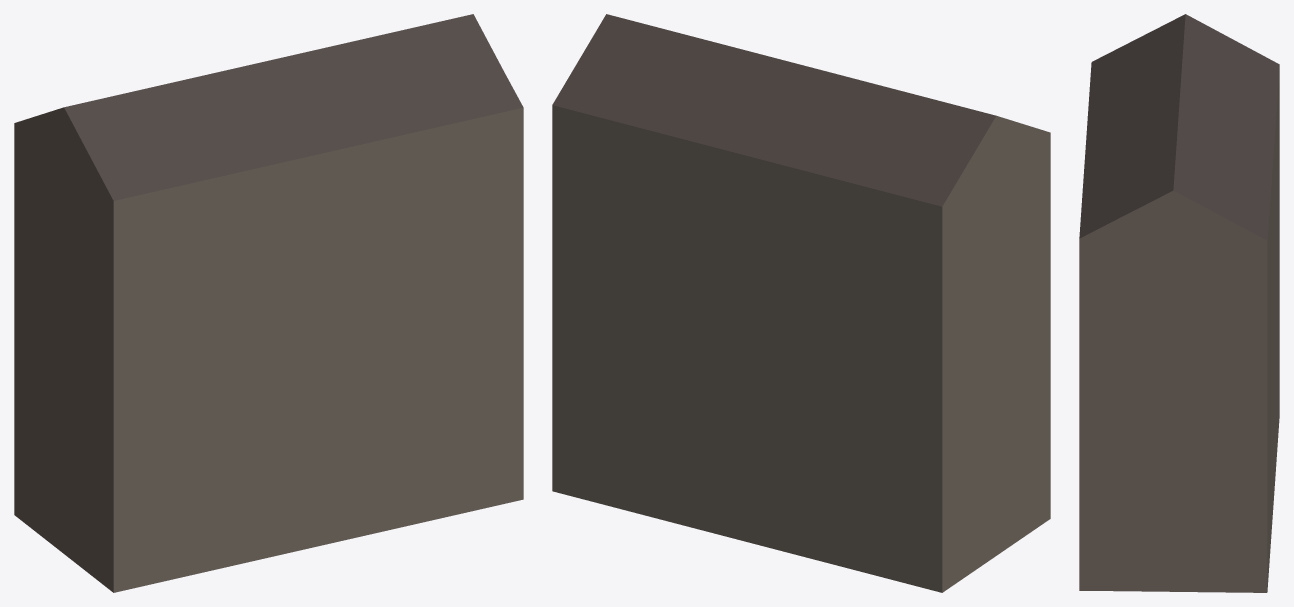
3 views of the same model, side by side, from view 1: azimuth 30°, elevation 25°; view 2: azimuth 150°, elevation 25°; view 3: azimuth 270°, elevation 25° (orthographic). The views are drawn at different scales.
Parts seen in each view (by area): view 1: HP-w1424106481; view 2: HP-w1424106481; view 3: HP-w1424106481.
Boxes of the visible parts, left/top/right/bottom form: HP-w1424106481: left=14, top=14, right=523, bottom=592; HP-w1424106481: left=552, top=14, right=1050, bottom=592; HP-w1424106481: left=1079, top=14, right=1279, bottom=592.
Bounding box in the file's own units: 6.54 × 6.84 × 3.09.
